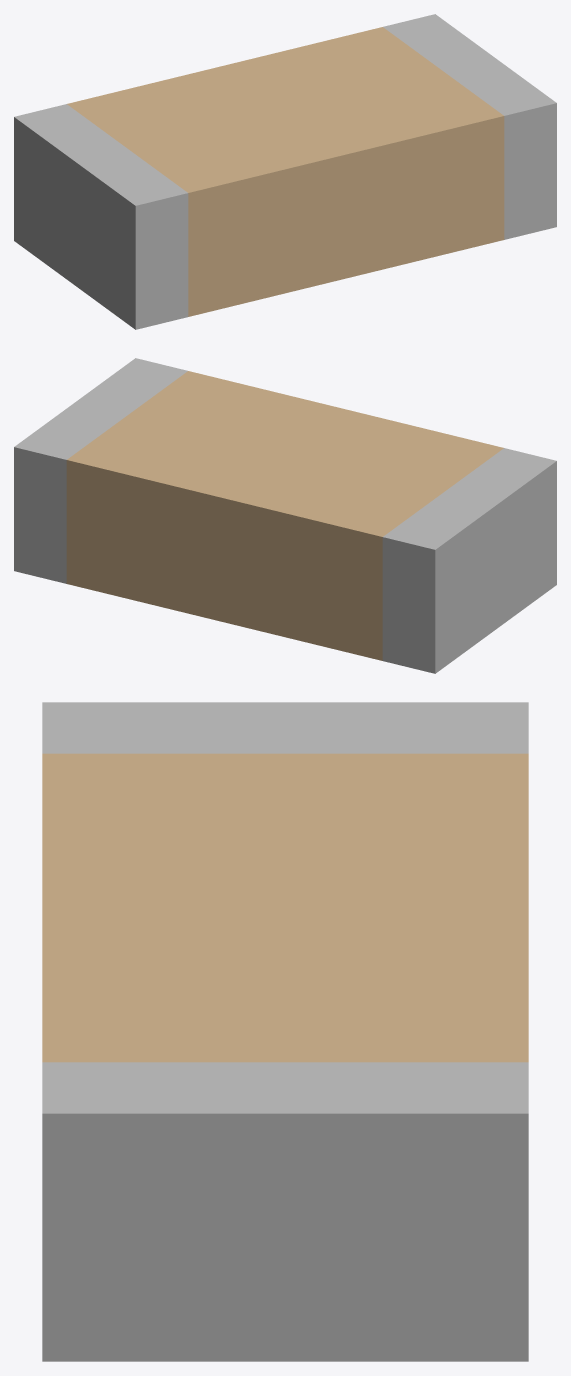
3 renders of one model, top to bottom at view 1: azimuth 30°, elevation 25°; view 2: azimuth 150°, elevation 25°; view 3: azimuth 270°, elevation 25°, orthographic. The views are drawn at different scales.
Parts seen in each view (by area): view 1: SketchUp (×3); view 2: SketchUp (×3); view 3: SketchUp (×3).
Boxes of the visible parts, x1=… form: SketchUp (×3): x1=14, y1=14, x2=556, y2=329; SketchUp (×3): x1=14, y1=358, x2=556, y2=673; SketchUp (×3): x1=42, y1=702, x2=528, y2=1361.
Bounding box in the file's own units: 62.99 × 31.5 × 17.72.
